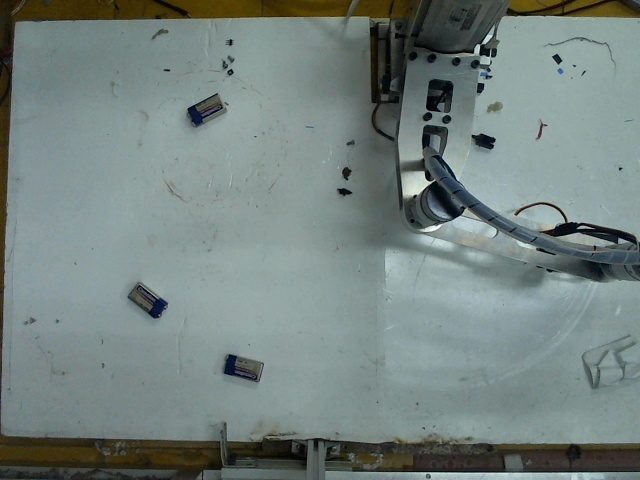battery: (127, 276, 171, 319), (184, 85, 227, 128), (219, 349, 264, 383)
